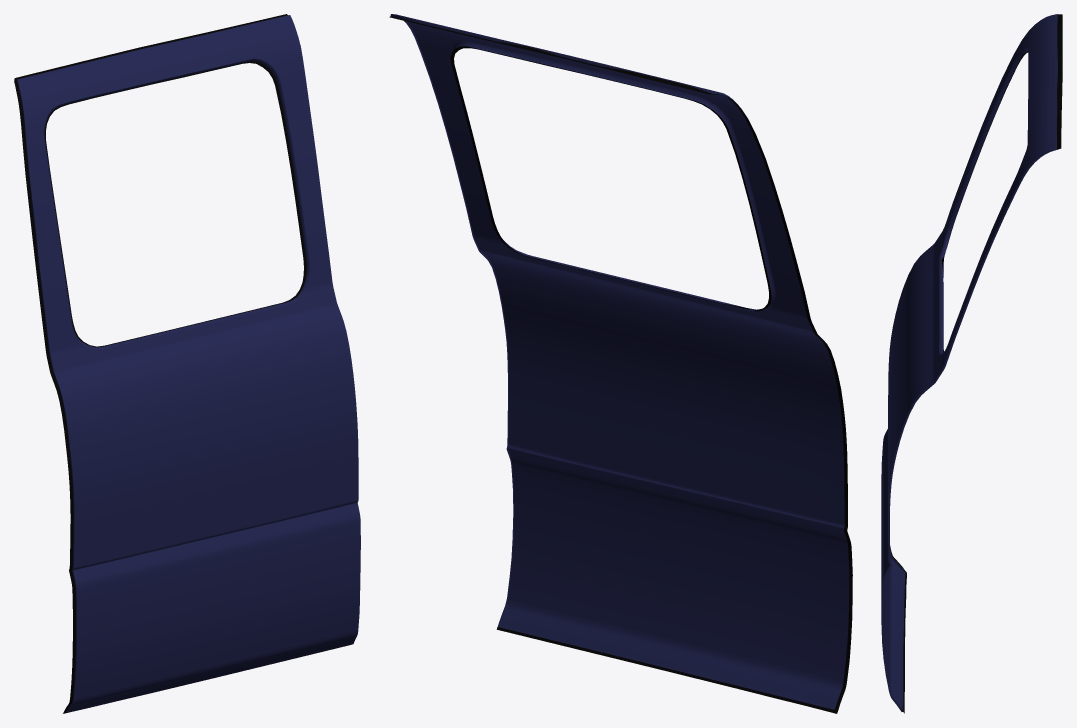
The picture shows the model from 3 angles, left to right: view 1: azimuth 30°, elevation 25°; view 2: azimuth 150°, elevation 25°; view 3: azimuth 270°, elevation 25°; orthographic projection. The views are drawn at different scales.
Visible parts, largest first — view 1: U803_3A_321B_R_U803_3A_321B_R_1_DaS, U803_3A_321B_R_2_D_U803_3A_321B_R, U803_3A_321B_R_U803_3A_321B_R_1_DaS_E; view 2: U803_3A_321B_R_U803_3A_321B_R_1_DaS, U803_3A_321B_R_2_D_U803_3A_321B_R, U803_3A_321B_R_U803_3A_321B_R_1_DaS_E; view 3: U803_3A_321B_R_U803_3A_321B_R_1_DaS, U803_3A_321B_R_U803_3A_321B_R_1_DaS_E, U803_3A_321B_R_2_D_U803_3A_321B_R.
Boxes of the visible parts, bbox=[...] form: U803_3A_321B_R_U803_3A_321B_R_1_DaS: bbox=[17, 15, 360, 712]; U803_3A_321B_R_2_D_U803_3A_321B_R: bbox=[14, 14, 349, 713]; U803_3A_321B_R_U803_3A_321B_R_1_DaS_E: bbox=[17, 58, 357, 712]; U803_3A_321B_R_U803_3A_321B_R_1_DaS: bbox=[392, 14, 849, 709]; U803_3A_321B_R_2_D_U803_3A_321B_R: bbox=[389, 16, 852, 713]; U803_3A_321B_R_U803_3A_321B_R_1_DaS_E: bbox=[390, 14, 843, 709]; U803_3A_321B_R_U803_3A_321B_R_1_DaS: bbox=[881, 14, 1057, 708]; U803_3A_321B_R_U803_3A_321B_R_1_DaS_E: bbox=[881, 15, 1057, 711]; U803_3A_321B_R_2_D_U803_3A_321B_R: bbox=[890, 14, 1062, 713].
Size of the model in its own units: 69.4 by 125 by 35.9.
